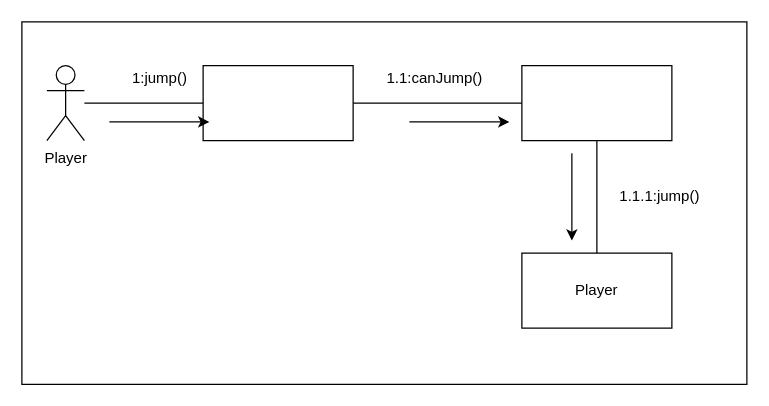
The diagram is 769 pixels wide and 406 high, and some of its shapes have lost their labels. The centre of each missing label's shape, as x and y in pixels:
:Game: (x=277, y=102)
:Level: (x=596, y=102)
